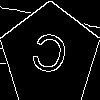C: (25, 30, 71, 86)
